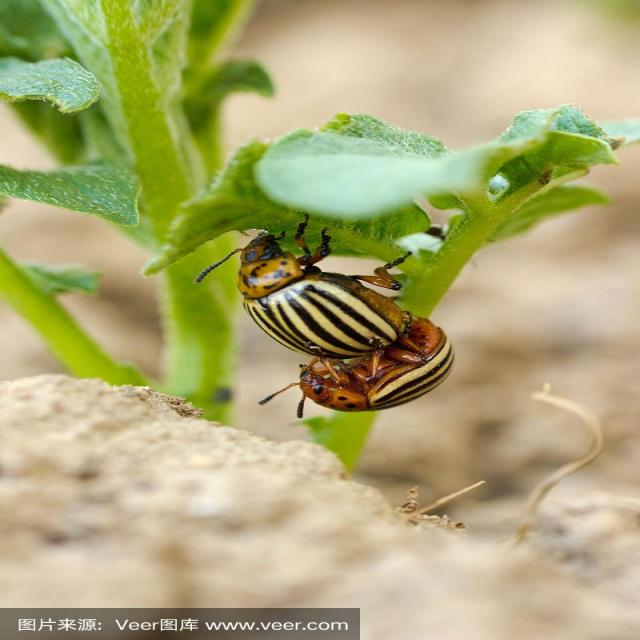ShuCaiHuaBanChong-Grown-: (206, 232, 398, 361), (281, 313, 462, 415)
